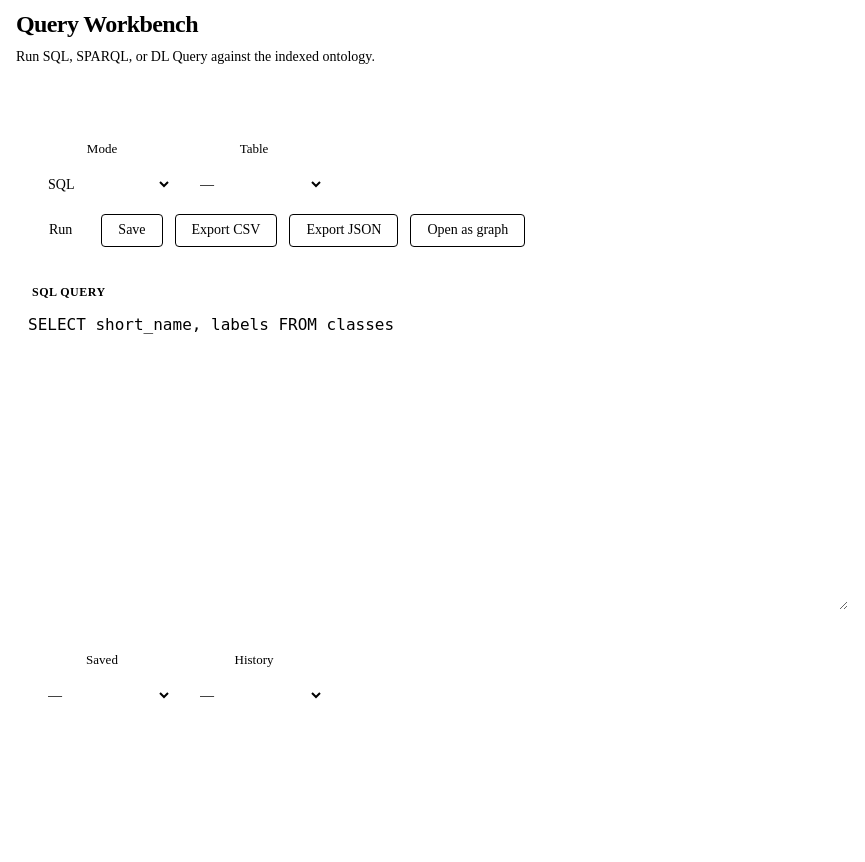
Scenario: QueryWorkbenchPanel › displays tabular results from host
Click the button "Run".
click(61, 231)  # box [32,214,89,247]
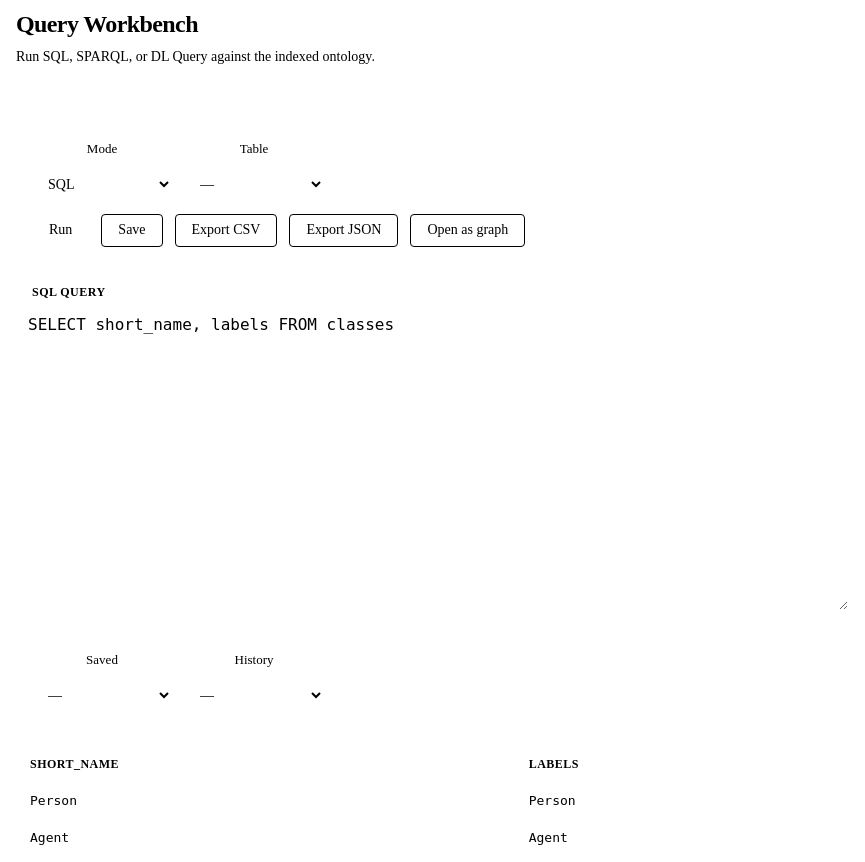
Now the column heading "short_name" is shown, box [16,745,515,783]
Now the 1st cell "Person" is shown, box [16,783,515,820]
